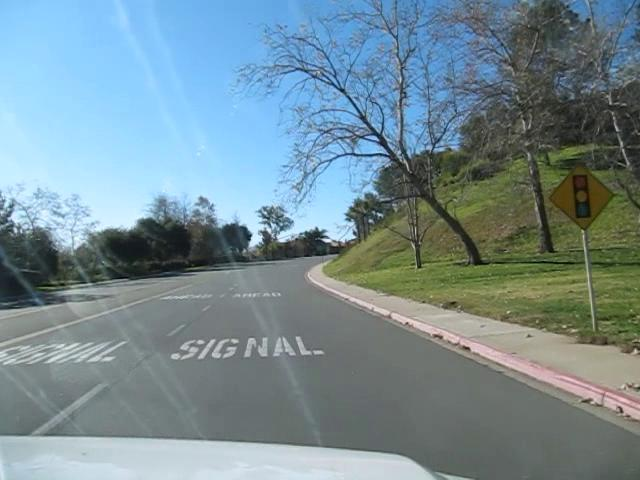signalAhead: (548, 161, 615, 231)
